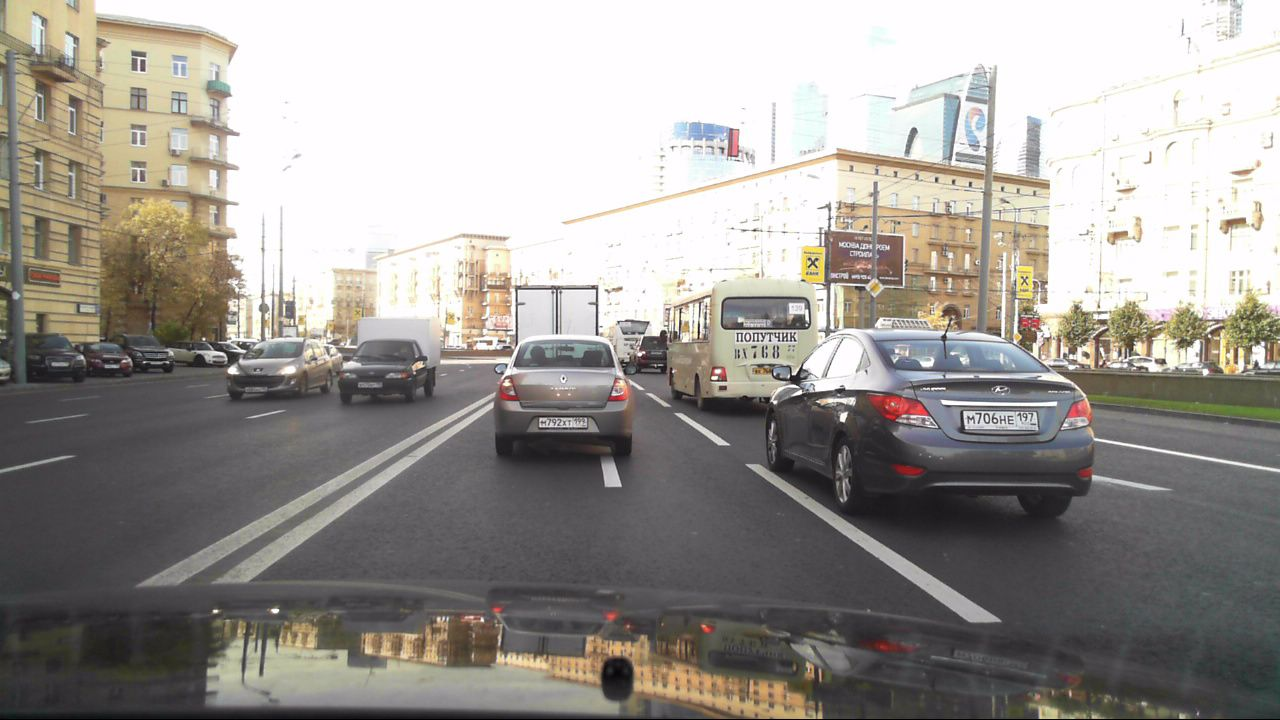main road: (864, 276, 885, 299)
